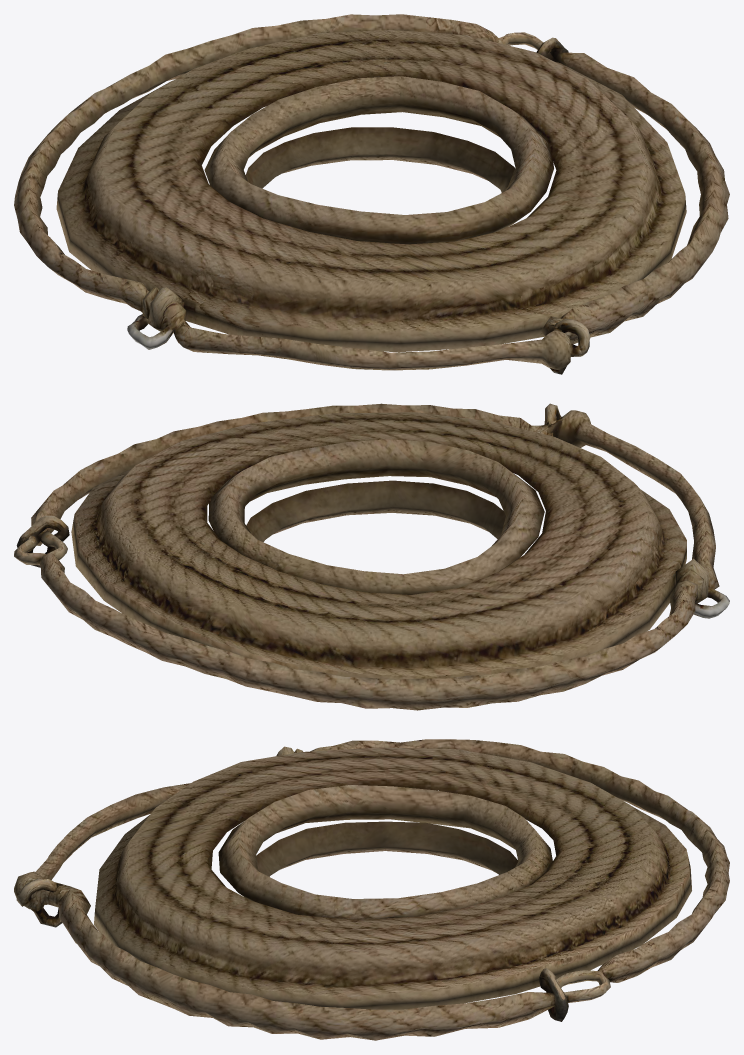
File: item_hq_rope.glb
3 views of the same model, one above another, from view 1: azimuth 30°, elevation 25°; view 2: azimuth 150°, elevation 25°; view 3: azimuth 270°, elevation 25° (orthographic). The views are drawn at different scales.
Parts seen in each view (by area): view 1: tripo_node_a56271ee-3c95-4b19-b9da-dc6e0eeaee8c; view 2: tripo_node_a56271ee-3c95-4b19-b9da-dc6e0eeaee8c; view 3: tripo_node_a56271ee-3c95-4b19-b9da-dc6e0eeaee8c.
Boxes of the visible parts, left/top/right/bottom form: tripo_node_a56271ee-3c95-4b19-b9da-dc6e0eeaee8c: left=14, top=14, right=729, bottom=374; tripo_node_a56271ee-3c95-4b19-b9da-dc6e0eeaee8c: left=14, top=403, right=729, bottom=710; tripo_node_a56271ee-3c95-4b19-b9da-dc6e0eeaee8c: left=14, top=739, right=729, bottom=1040.
Bounding box in the file's own units: 0.9512 × 0.1465 × 0.998.
1 material, 1 textured.
